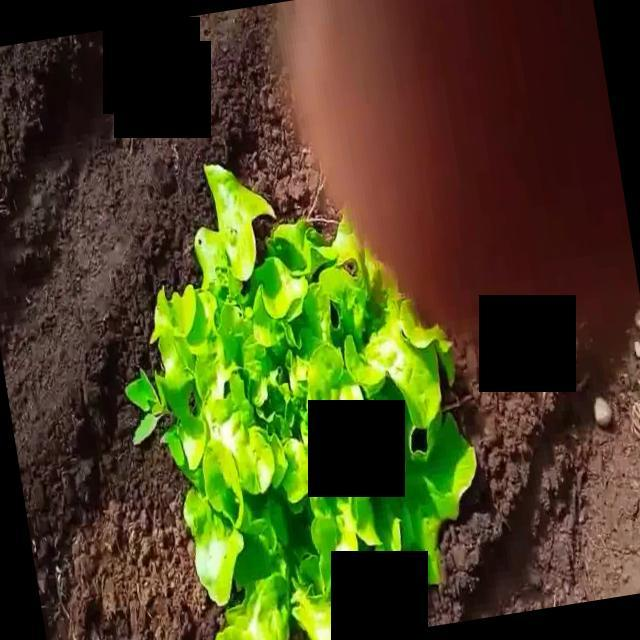Lettuce: (149, 163, 480, 640)
